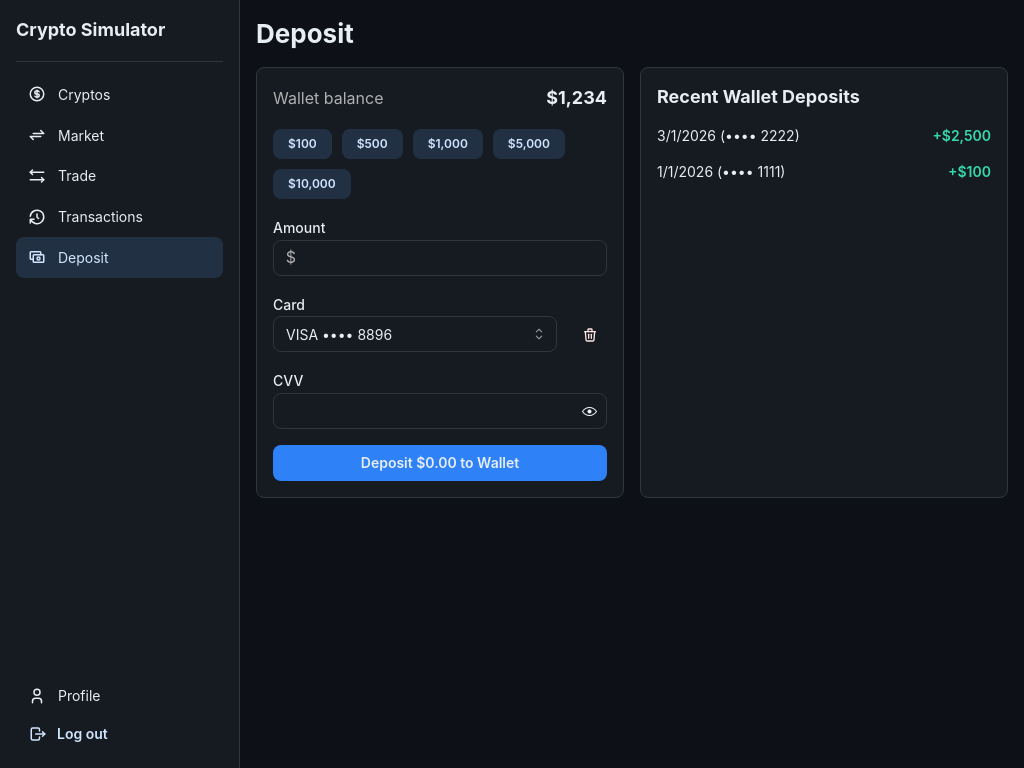
Test case: DepositPage › shows the server error message on a 400
Expected: the field showing "VISA •••• 8896" is shown, [273,316,557,352]
Click the button "$100".
click(302, 144)  # box [273,129,332,159]
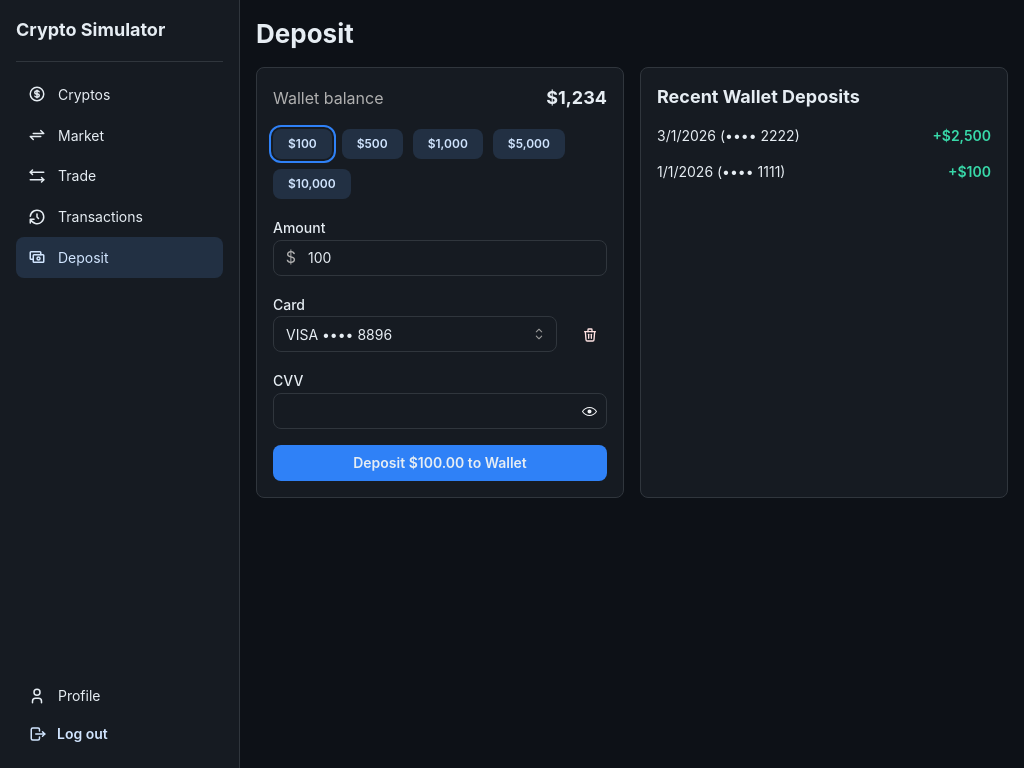
Type "842" into the password field labelled "CVV".
click(440, 411); type("842")  # box [274,394,606,428]
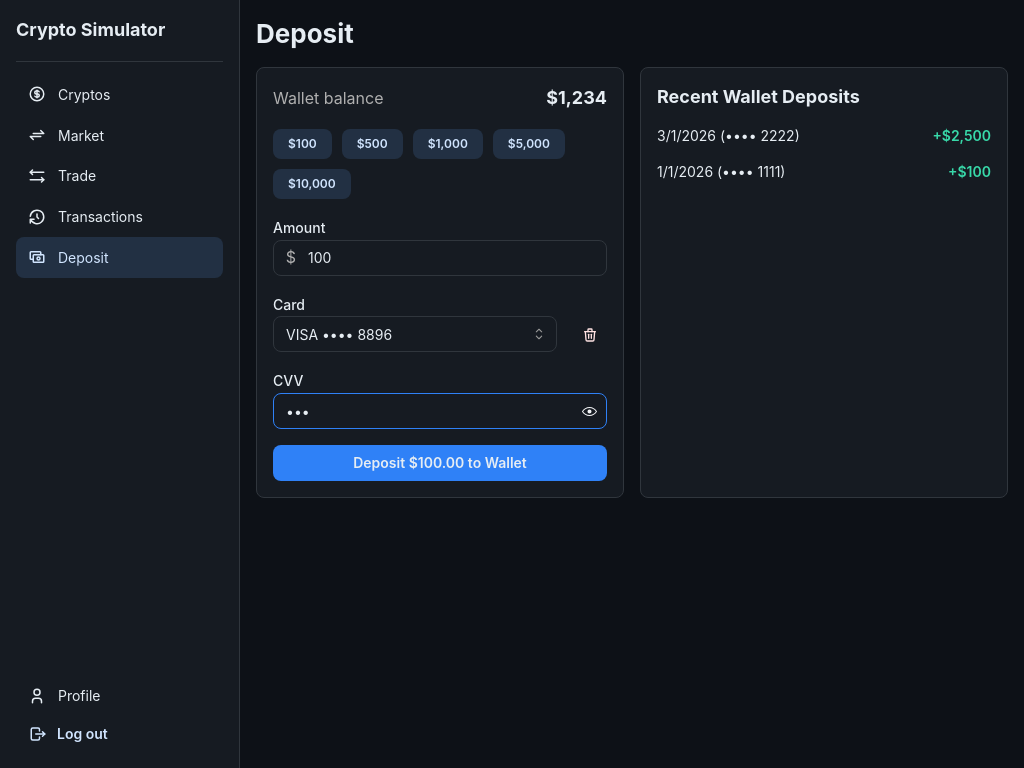
Click the button "Deposit $100.00 to Wallet".
click(440, 463)  # box [273,445,607,481]
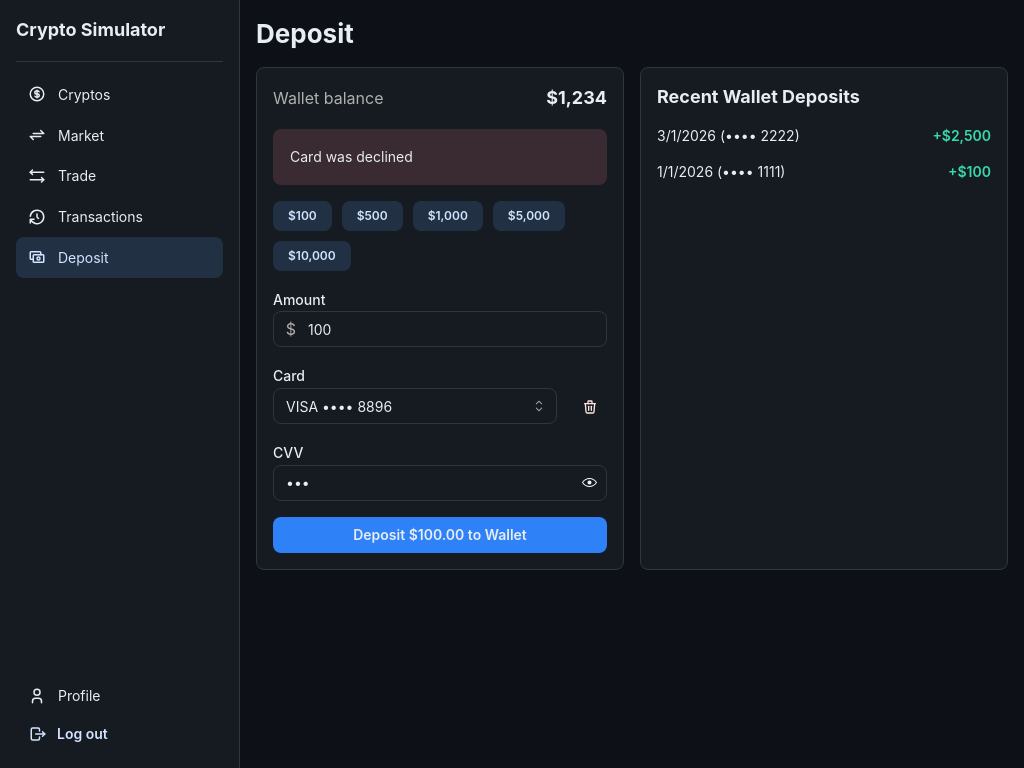
Result: the text "Card was declined" is shown at [290,148,413,165]
